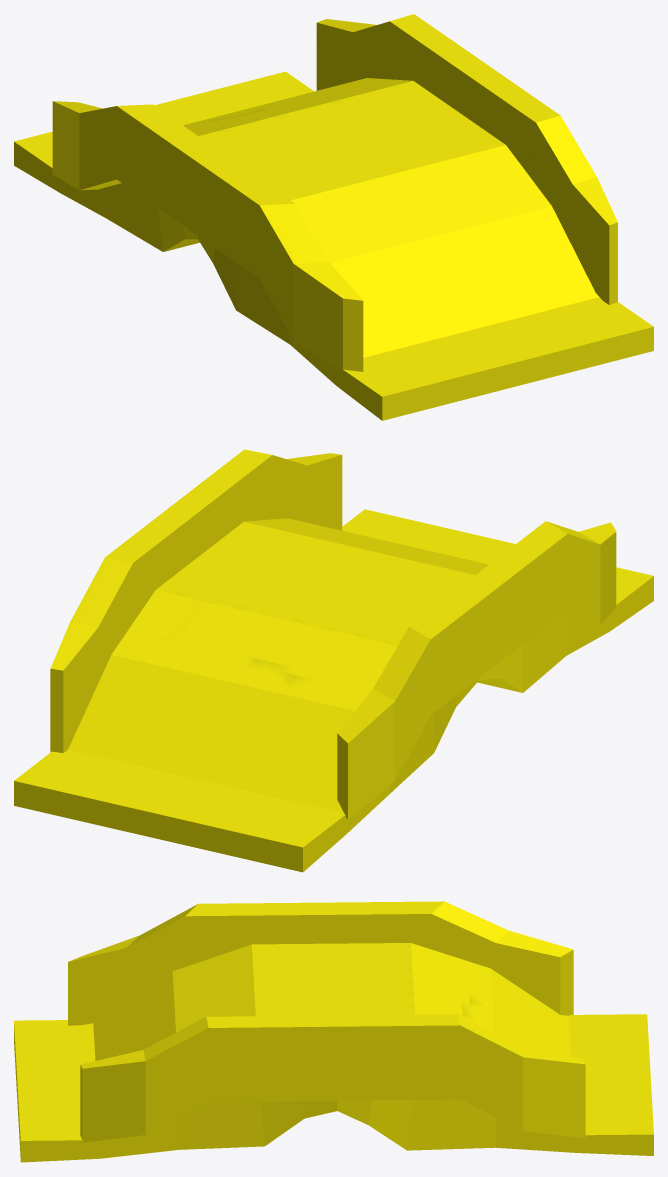
File: Road_Yellow.fbx
The picture shows the model from 3 angles, top to bottom: view 1: azimuth 30°, elevation 25°; view 2: azimuth 150°, elevation 25°; view 3: azimuth 270°, elevation 25°; orthographic projection. The views are drawn at different scales.
Parts seen in each view (by area): view 1: node_id4; view 2: node_id4; view 3: node_id4.
Boxes of the visible parts, bbox=[...] form: node_id4: bbox=[14, 14, 653, 420]; node_id4: bbox=[14, 449, 653, 872]; node_id4: bbox=[14, 901, 653, 1162].
Bounding box in the file's own units: 0.2624 × 0.1242 × 0.5161.
1 material, 1 textured.
